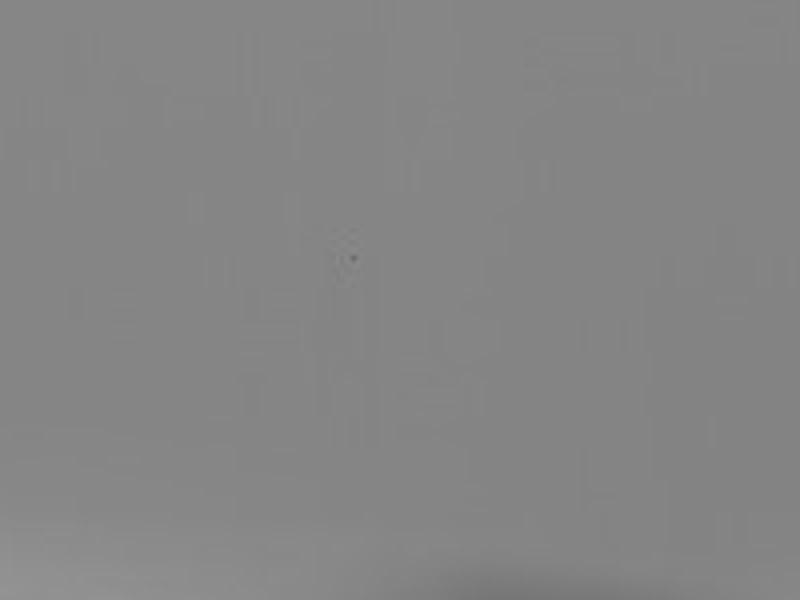defect: (346, 248, 361, 266)
